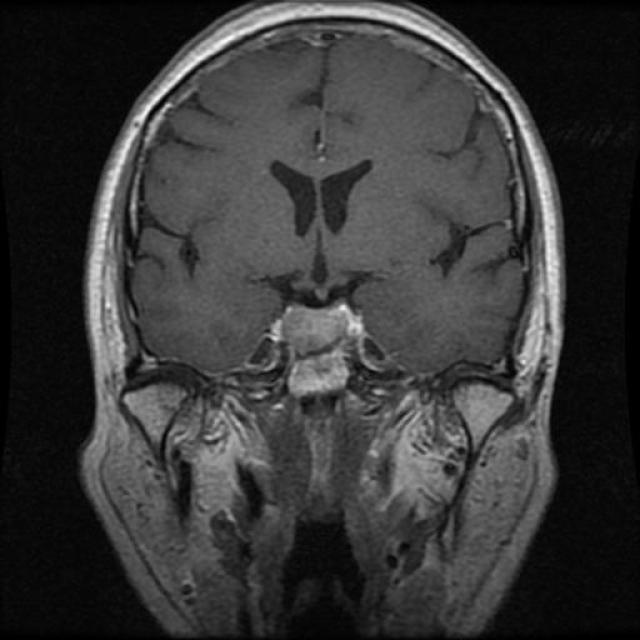pituitary: (268, 281, 375, 360)
